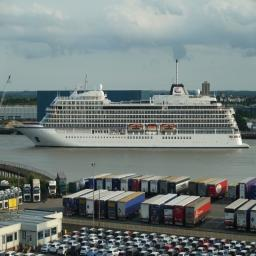cruises: (12, 60, 252, 152)
